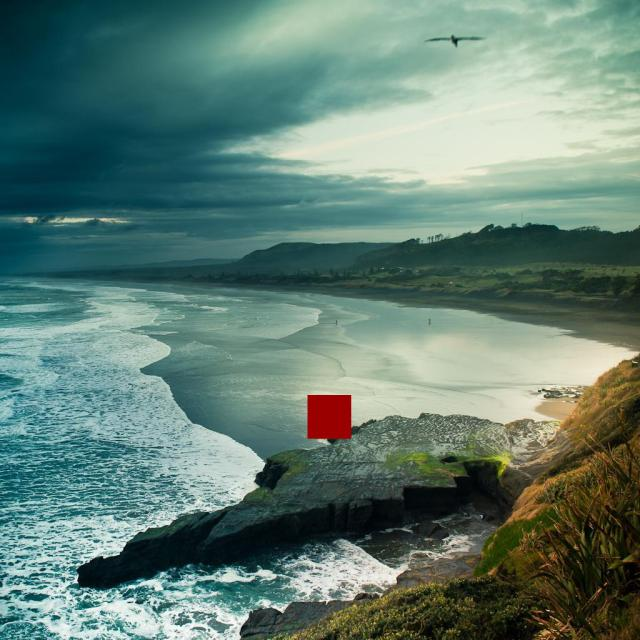RedSquare: (302, 388, 360, 449)
